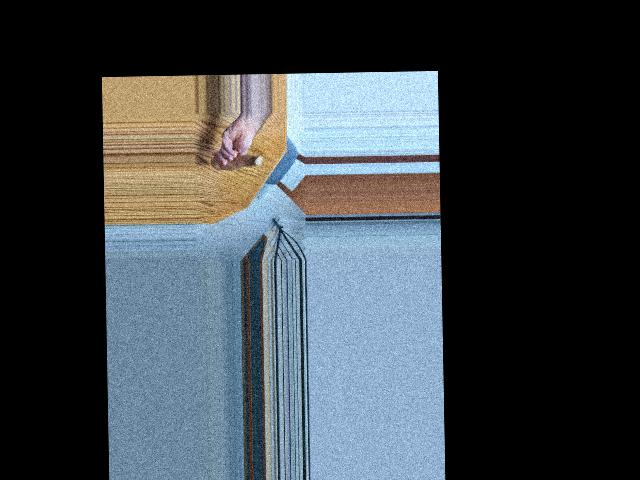sweet_potato: (212, 149, 263, 171)
